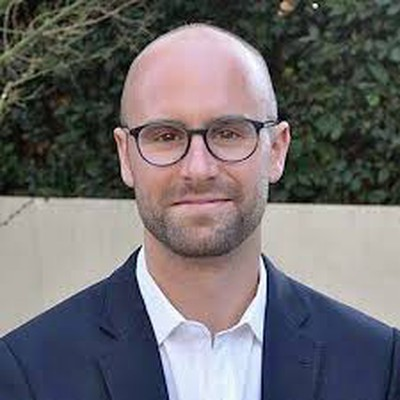eywear: (103, 125, 289, 175)
